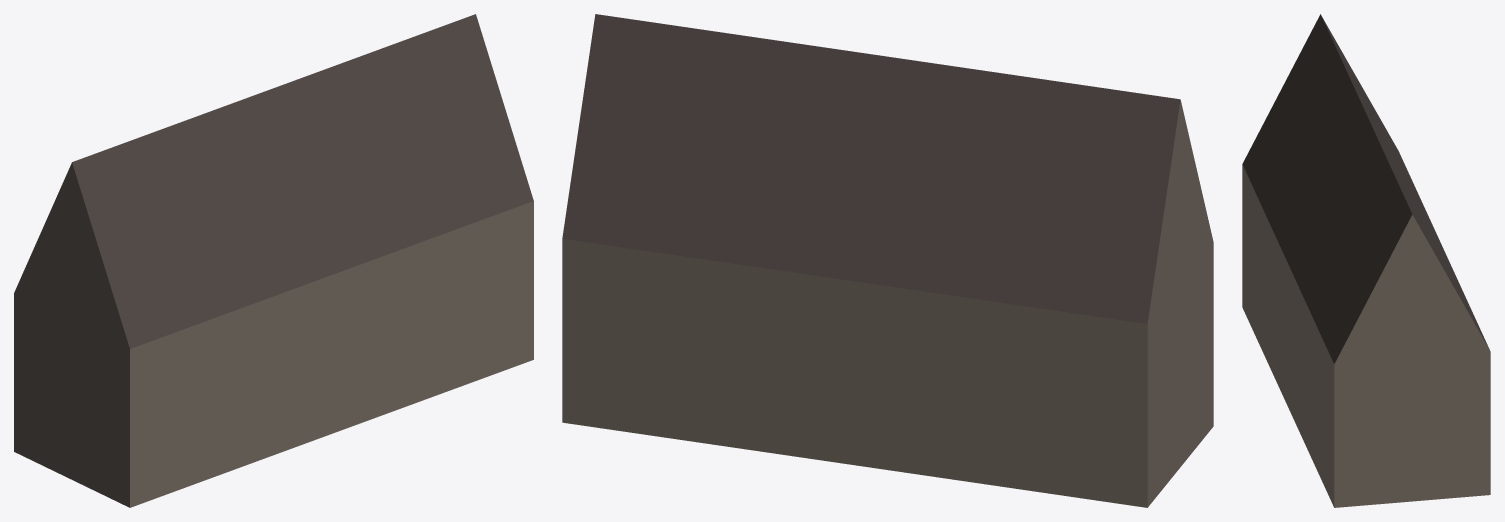
3 renders of one model, left to right at view 1: azimuth 30°, elevation 25°; view 2: azimuth 150°, elevation 25°; view 3: azimuth 270°, elevation 25°, orthographic. The views are drawn at different scales.
Visible parts, largest first — view 1: HP-w428196106; view 2: HP-w428196106; view 3: HP-w428196106.
Boxes of the visible parts, box(x1,y1,x2,y2) form: HP-w428196106: box(14, 14, 533, 507); HP-w428196106: box(562, 14, 1213, 507); HP-w428196106: box(1242, 14, 1490, 507).
Bounding box in the file's own units: 9.57 × 6 × 4.7.
